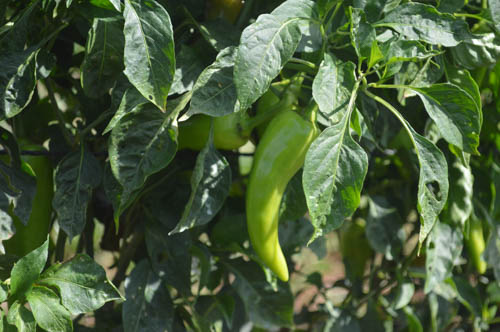ChiliPepper: (243, 109, 325, 285), (1, 139, 57, 265), (163, 102, 248, 160), (250, 70, 308, 151), (331, 225, 376, 290), (466, 212, 489, 276)
